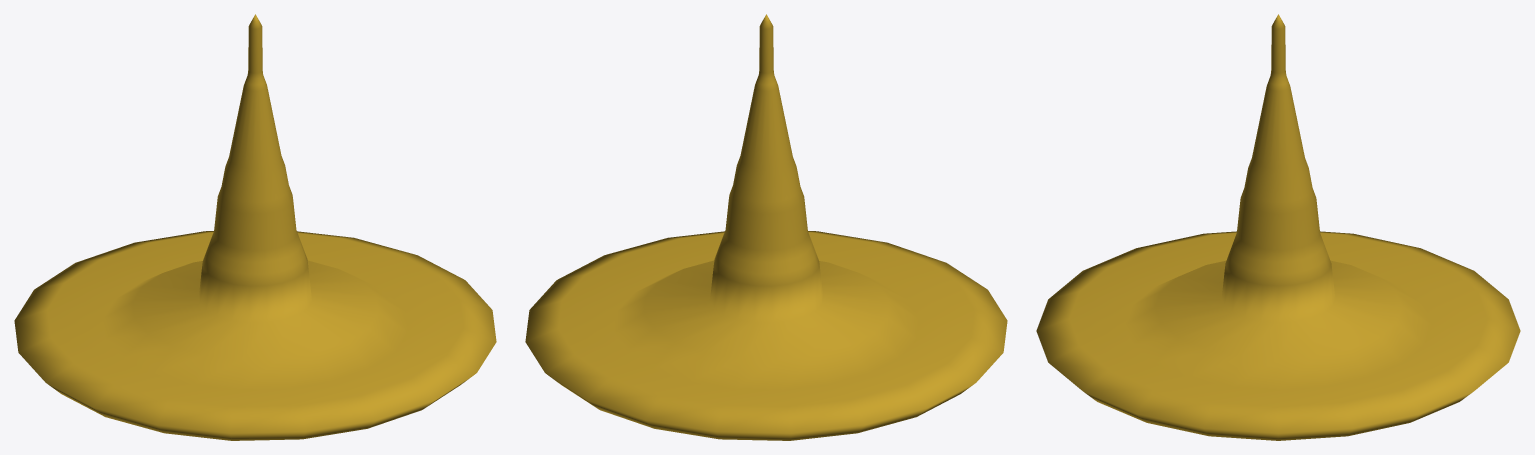
File: biggerChandiler.fbx
3 views of the same model, side by side, from view 1: azimuth 30°, elevation 25°; view 2: azimuth 150°, elevation 25°; view 3: azimuth 270°, elevation 25° (orthographic).
Parts seen in each view (by area): view 1: pCone1; view 2: pCone1; view 3: pCone1.
Boxes of the visible parts, x1,y1,x2,y2 form: pCone1: [14, 14, 496, 440]; pCone1: [525, 14, 1007, 440]; pCone1: [1036, 14, 1520, 440].
Bounding box in the file's own units: 20.47 × 19.04 × 20.47.
